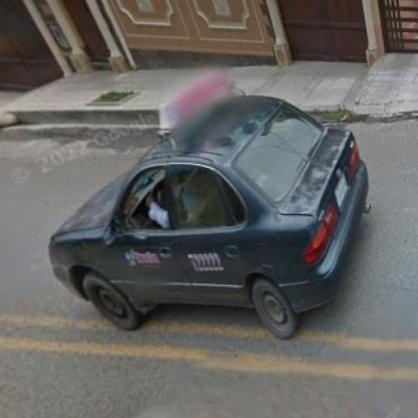car: (52, 94, 372, 341)
